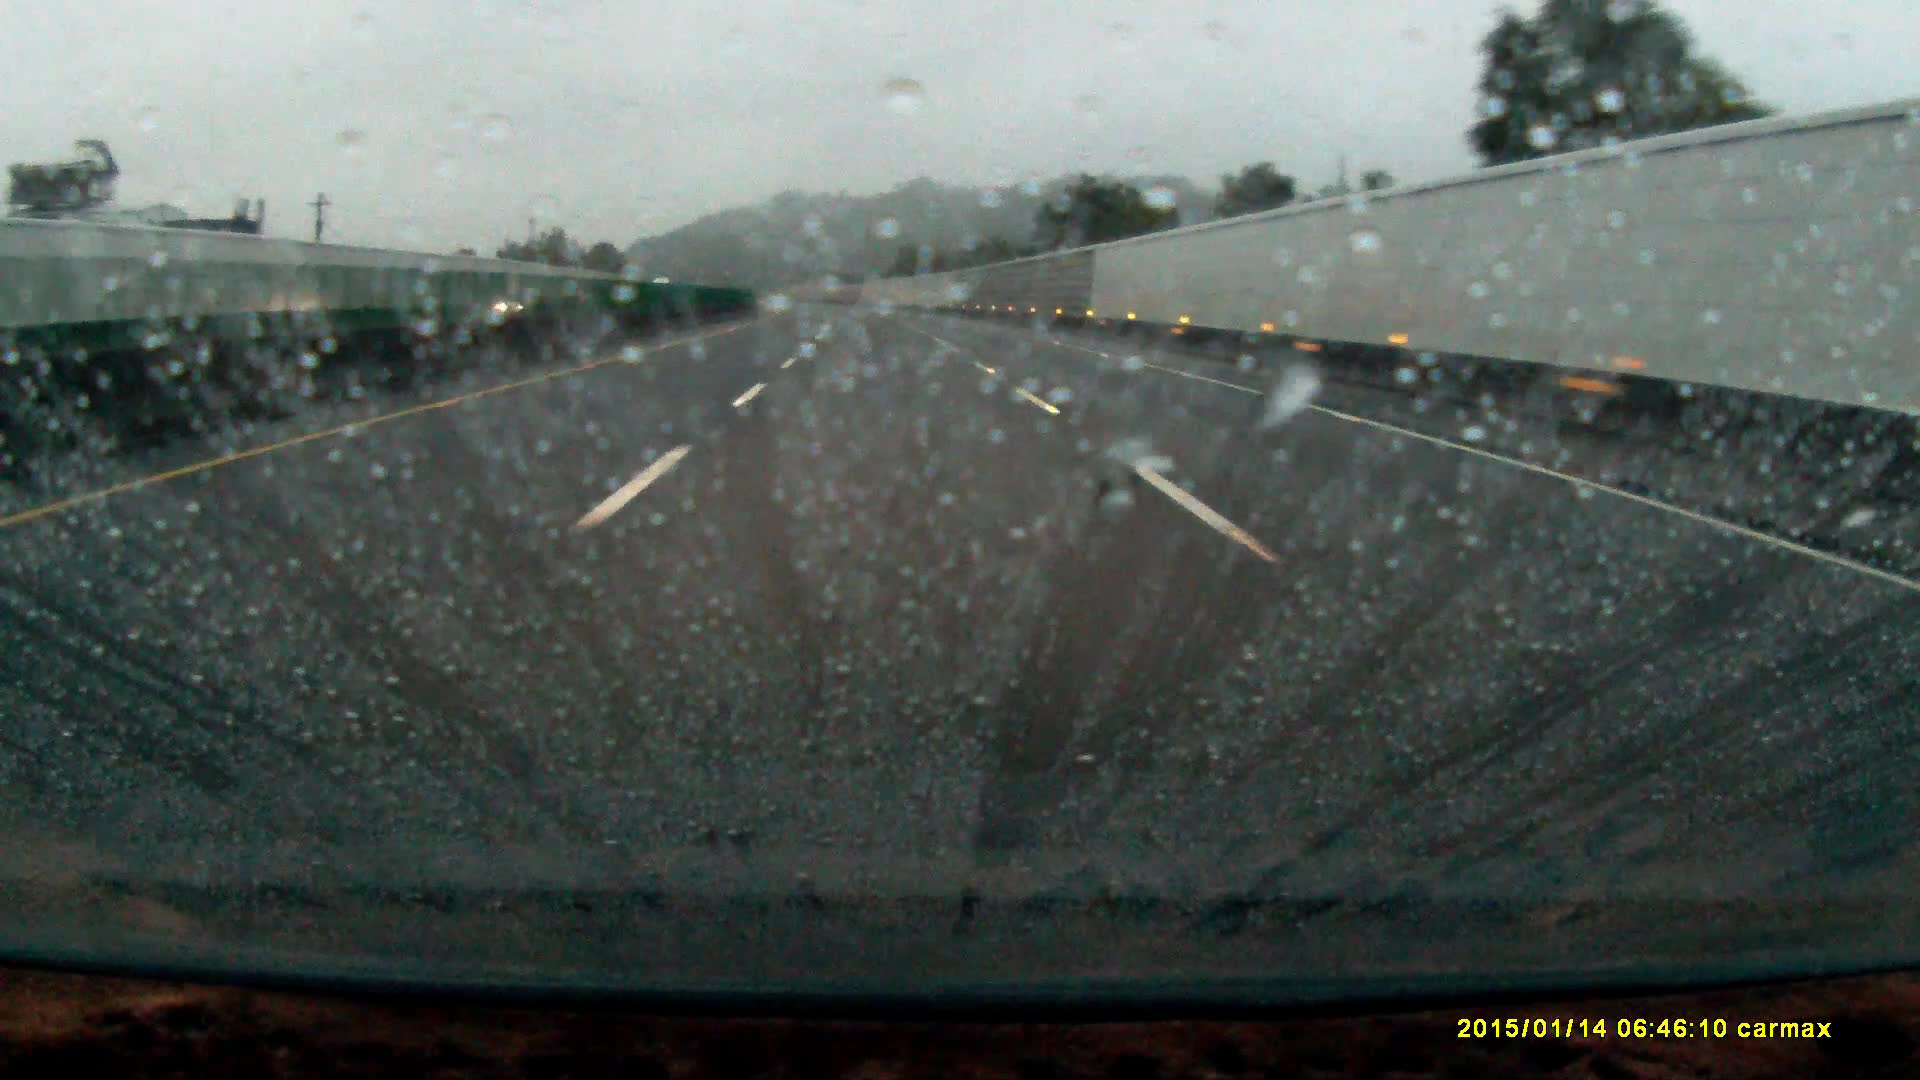vehicle: (489, 293, 541, 320)
